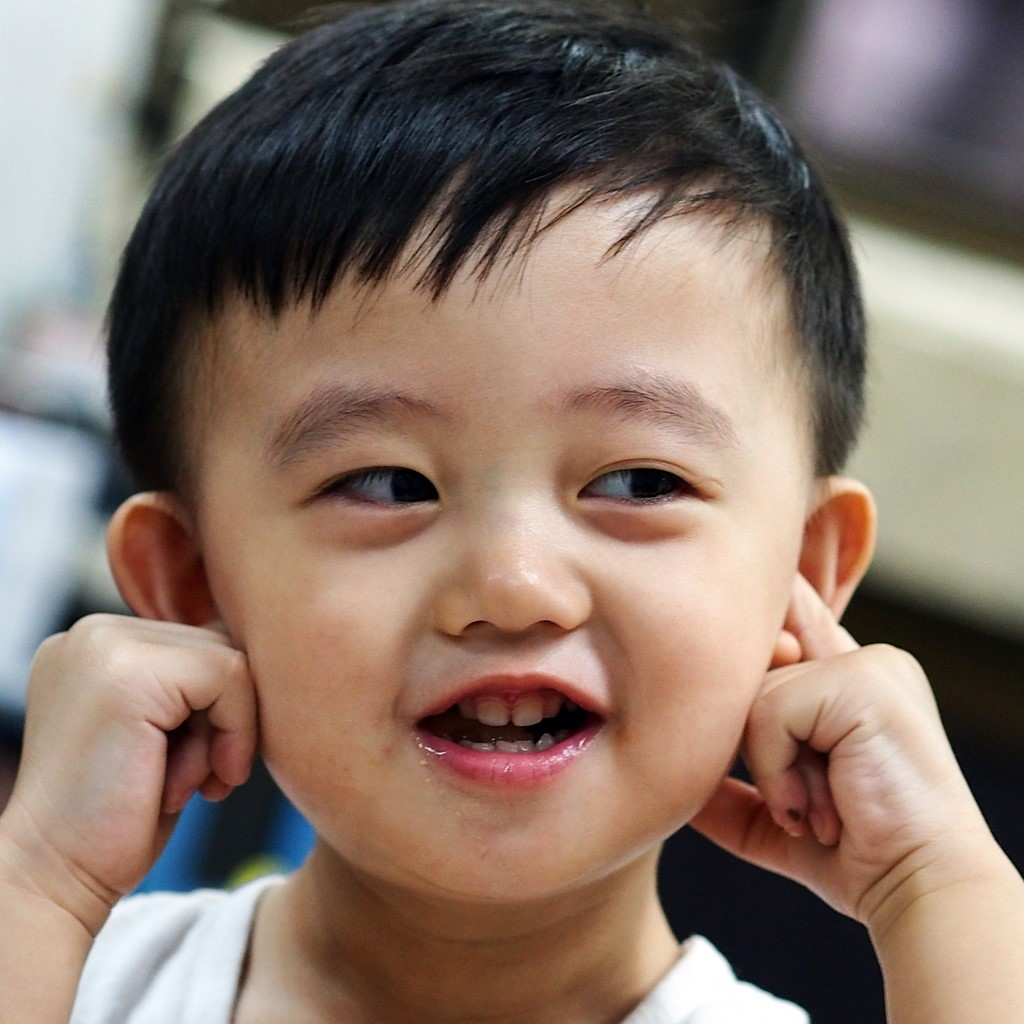sin_mascara: (151, 90, 842, 909)
